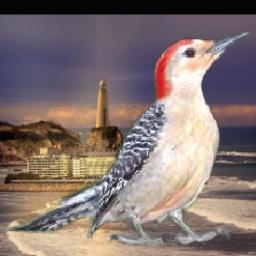Woodpecker: (3, 26, 254, 246)
